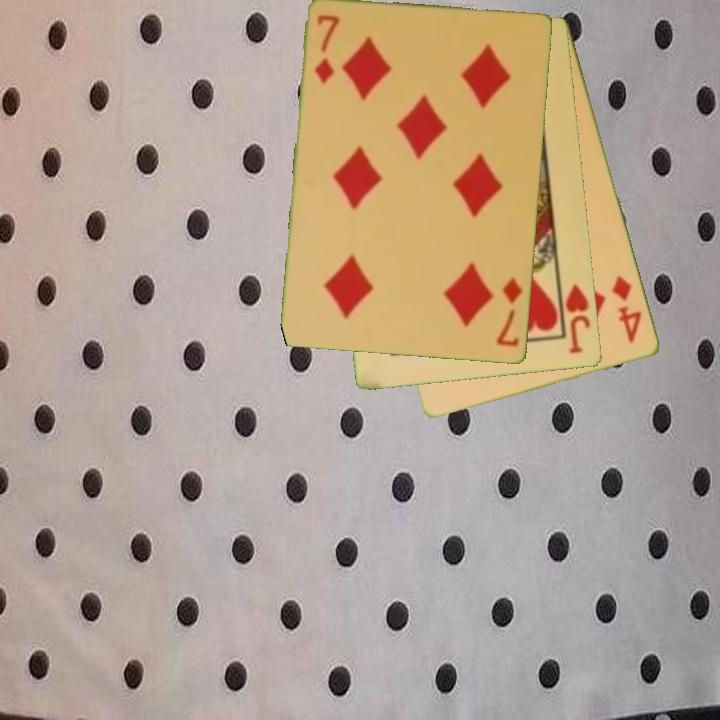4d: (608, 272, 645, 346)
7d: (493, 274, 525, 350), (311, 12, 343, 87)
Jh: (555, 275, 594, 357)
